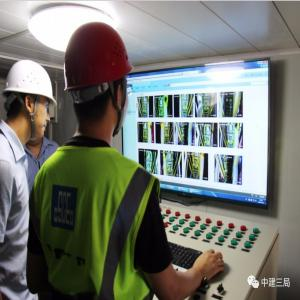red: (63, 20, 133, 140)
white: (5, 59, 54, 144)
